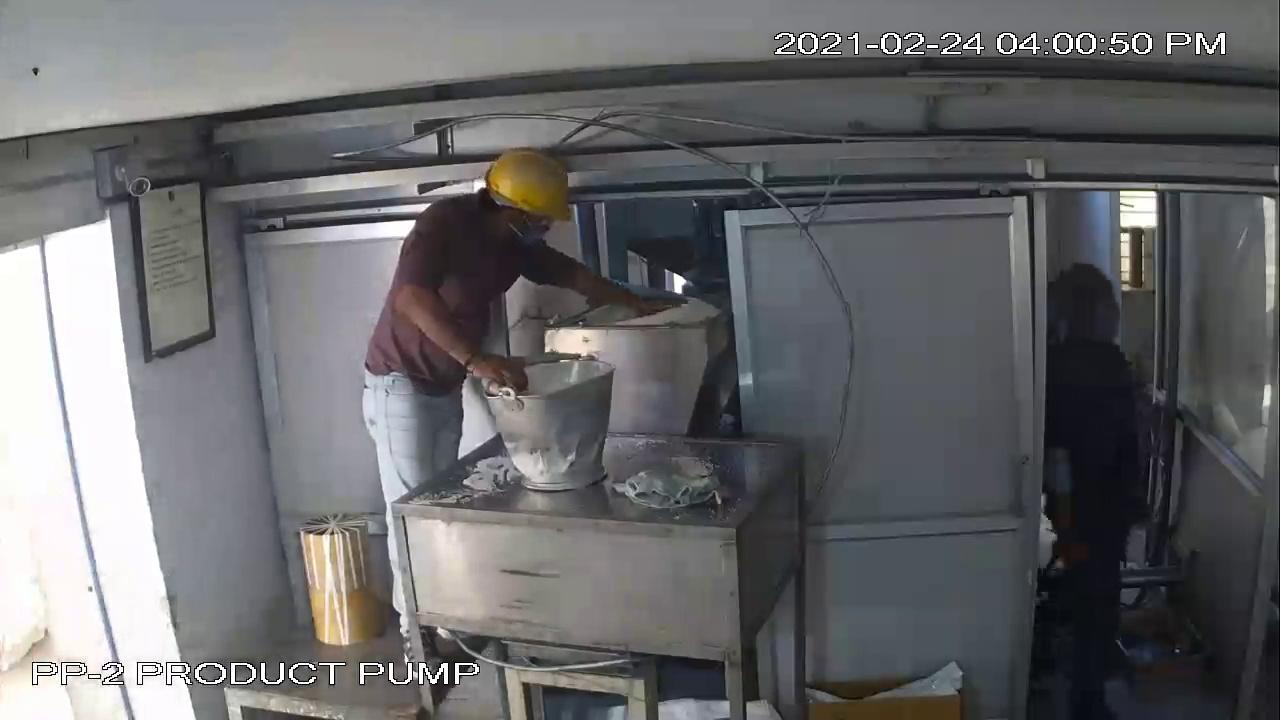helmet: (473, 135, 594, 228)
